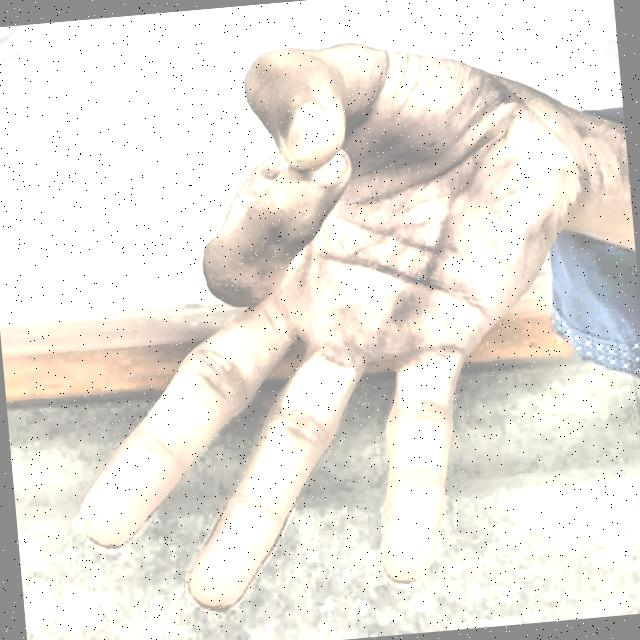Fa: (32, 6, 612, 633)
